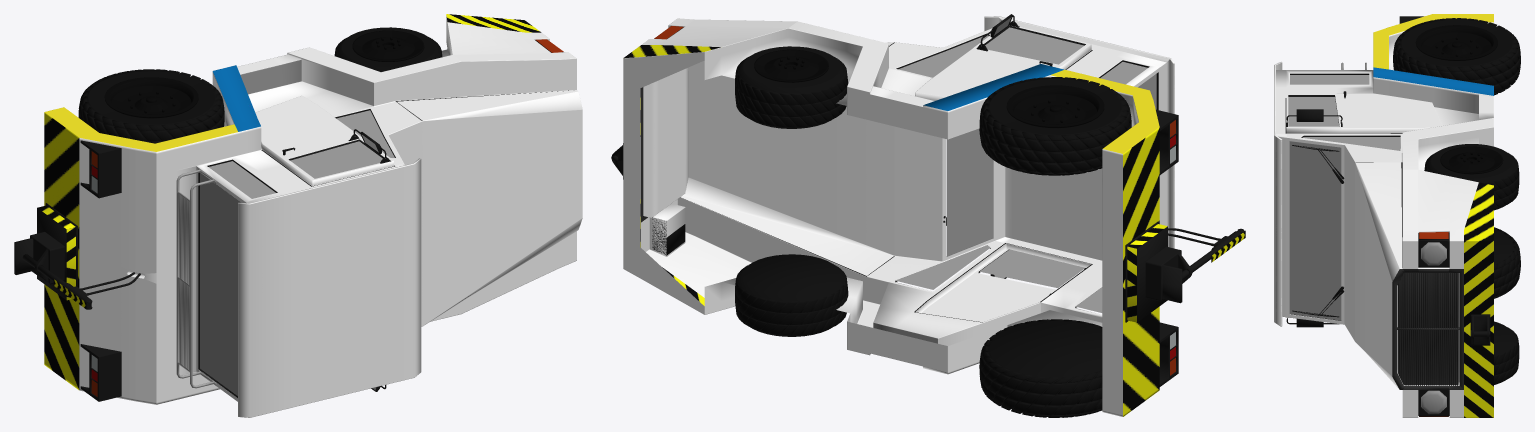
The model's file is aircraft-tractor-smol-smoothed.obj.
The picture shows the model from 3 angles, left to right: view 1: azimuth 30°, elevation 25°; view 2: azimuth 150°, elevation 25°; view 3: azimuth 270°, elevation 25°; orthographic projection. The views are drawn at different scales.
Visible parts, largest first — view 1: Cube_Cube_base_tractor, Cube_Cube_glass, Cube_Cube_black_parts, Cube_Cube_Rubber, Cube_Cube_white_metal_rim, Cube_Cube_brushed_metal; view 2: Cube_Cube_base_tractor, Cube_Cube_Rubber, Cube_Cube_glass, Cube_Cube_black_parts, Cube_Cube_white_metal_rim; view 3: Cube_Cube_base_tractor, Cube_Cube_glass, Cube_Cube_Rubber, Cube_Cube_grill_gray, Cube_Cube_white_metal_rim, Cube_Cube_black_parts, Cube_Cube_headlight, Cube_Cube_orange_reflector.
Part boxes in pixels (left/top/right/bottom): Cube_Cube_base_tractor: left=37, top=14, right=582, bottom=417; Cube_Cube_glass: left=200, top=110, right=394, bottom=395; Cube_Cube_black_parts: left=14, top=40, right=568, bottom=401; Cube_Cube_Rubber: left=78, top=27, right=442, bottom=143; Cube_Cube_white_metal_rim: left=104, top=30, right=424, bottom=118; Cube_Cube_brushed_metal: left=176, top=60, right=385, bottom=388; Cube_Cube_base_tractor: left=623, top=16, right=1245, bottom=416; Cube_Cube_Rubber: left=735, top=46, right=1131, bottom=417; Cube_Cube_glass: left=895, top=27, right=1156, bottom=312; Cube_Cube_black_parts: left=611, top=14, right=1245, bottom=386; Cube_Cube_white_metal_rim: left=754, top=49, right=1104, bottom=127; Cube_Cube_base_tractor: left=1274, top=14, right=1493, bottom=417; Cube_Cube_glass: left=1288, top=75, right=1400, bottom=320; Cube_Cube_Rubber: left=1393, top=18, right=1520, bottom=384; Cube_Cube_grill_gray: left=1392, top=269, right=1463, bottom=389; Cube_Cube_white_metal_rim: left=1415, top=25, right=1503, bottom=174; Cube_Cube_black_parts: left=1285, top=16, right=1490, bottom=416; Cube_Cube_headlight: left=1421, top=242, right=1446, bottom=413; Cube_Cube_orange_reflector: left=1419, top=232, right=1448, bottom=416.
Bounding box in the file's own units: 4.67 × 2.26 × 2.13.
Materials: 13 (1 with a texture image).
